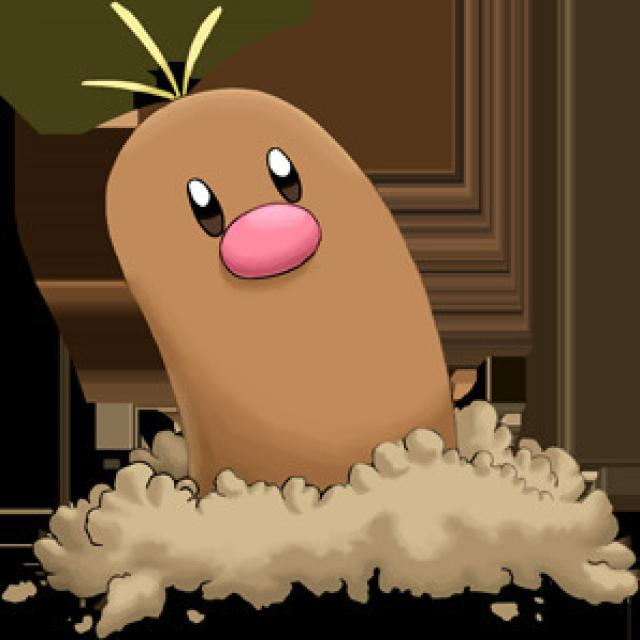Diglett: (82, 78, 484, 476)
